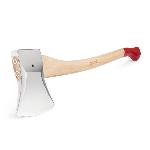Kapak: (0, 35, 144, 118)
